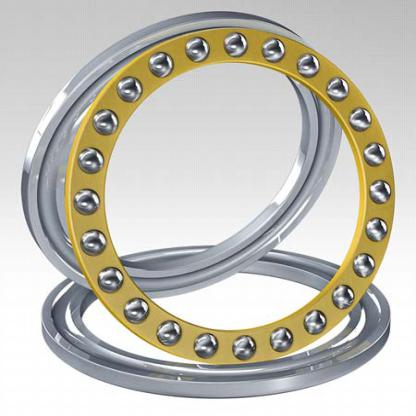FOD: (6, 1, 404, 402)
